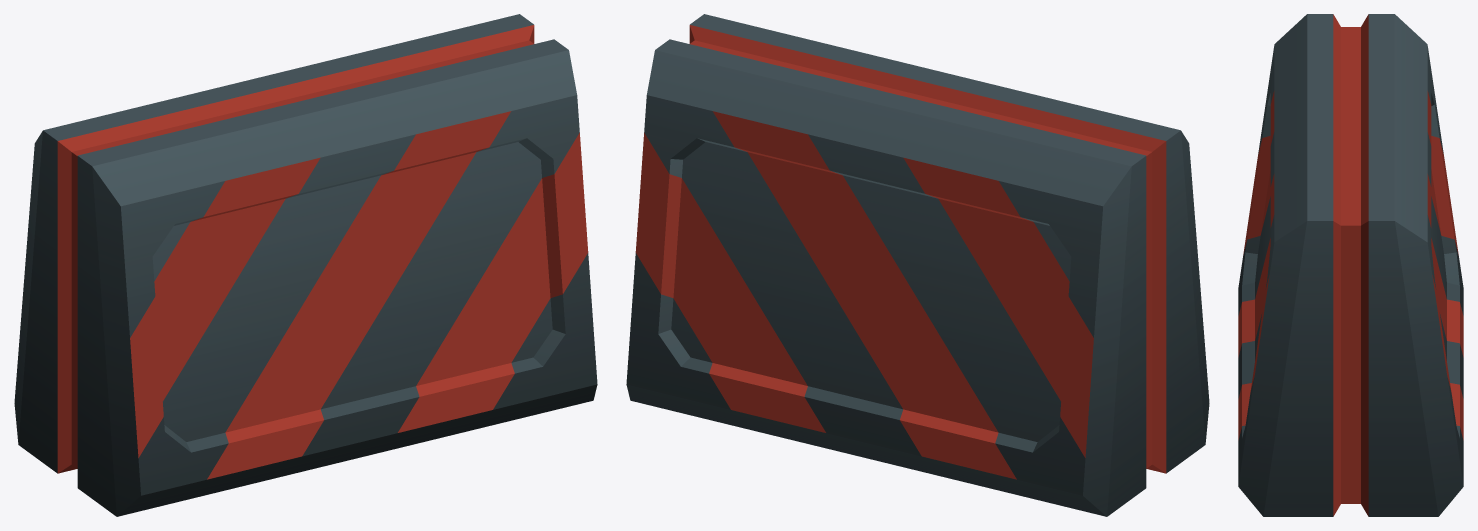
Rendered from Barriaer_001.fbx.
3 views of the same model, side by side, from view 1: azimuth 30°, elevation 25°; view 2: azimuth 150°, elevation 25°; view 3: azimuth 270°, elevation 25° (orthographic). The views are drawn at different scales.
Parts seen in each view (by area): view 1: Barriaer_001; view 2: Barriaer_001; view 3: Barriaer_001.
Part boxes in pixels (x1=…): Barriaer_001: x1=14, y1=14, x2=597, y2=516; Barriaer_001: x1=626, y1=14, x2=1209, y2=516; Barriaer_001: x1=1238, y1=14, x2=1463, y2=516.
Size of the model in its own units: 120 by 55.21 by 80.
